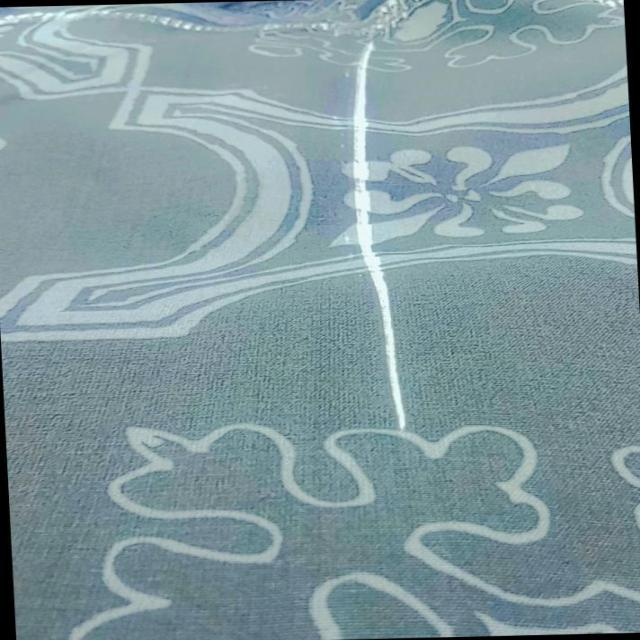selvet: (339, 30, 422, 435)
